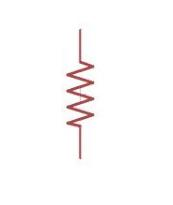resistor: (52, 43, 108, 139)
